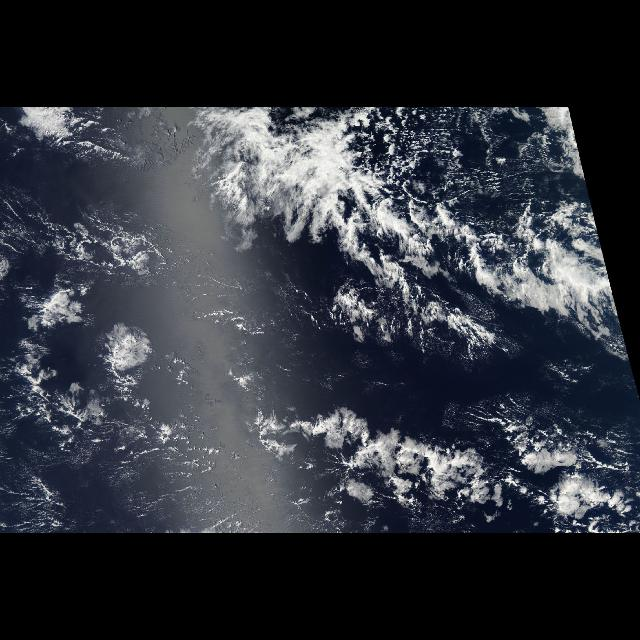Sugar: (262, 412, 610, 524)
